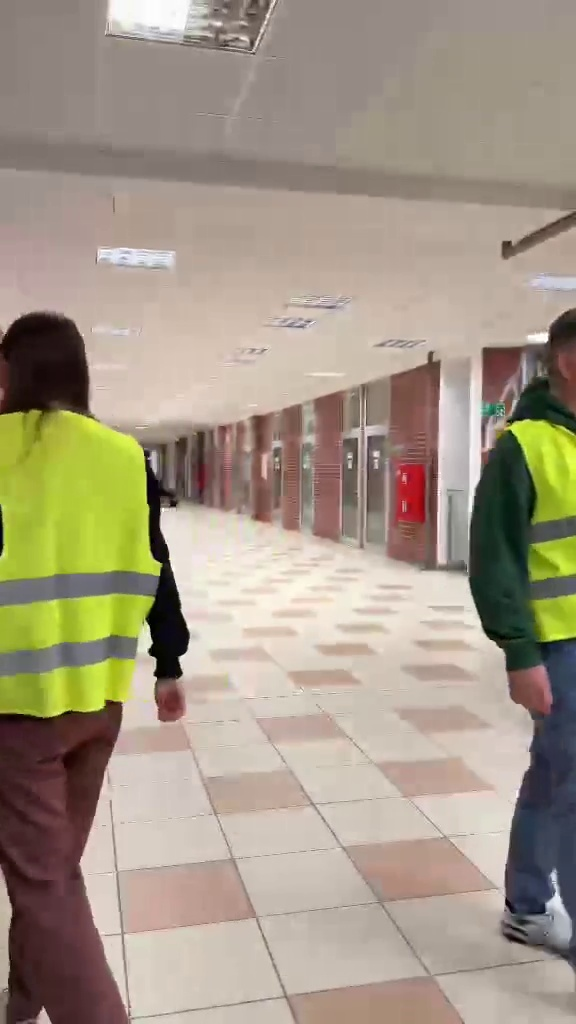vest: (0, 308, 195, 999), (473, 313, 576, 989)
